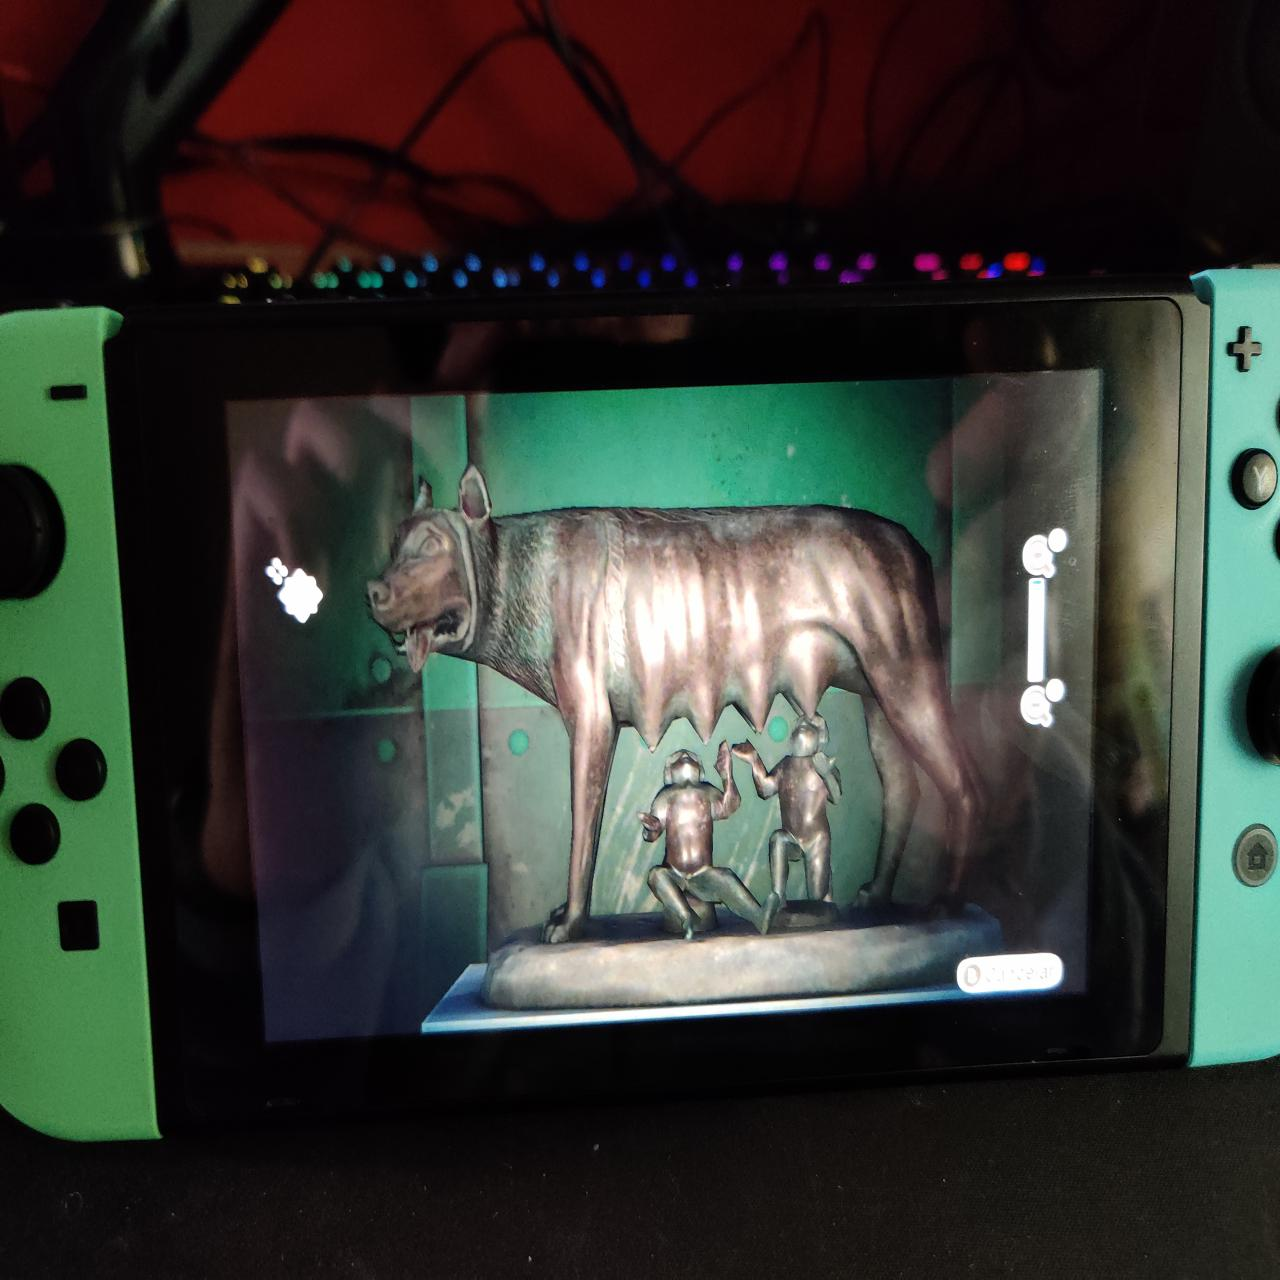CapitoliniFake: (362, 458, 993, 940)
